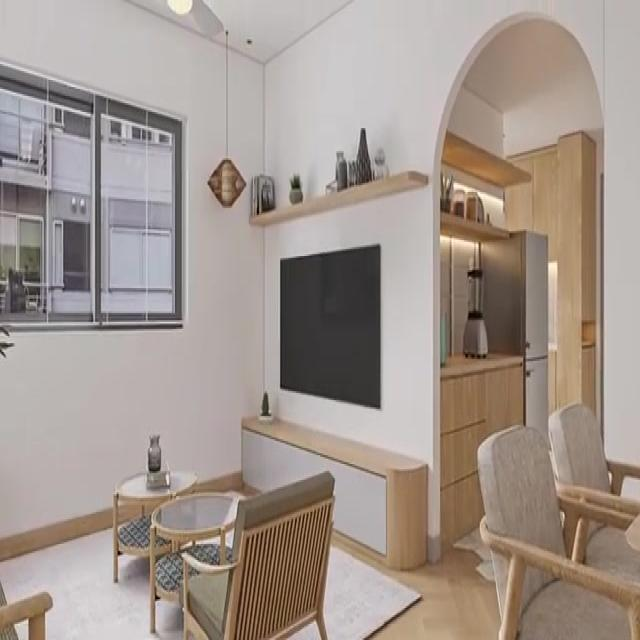obstacle: (476, 423, 639, 638), (180, 470, 335, 638), (479, 228, 549, 450)
